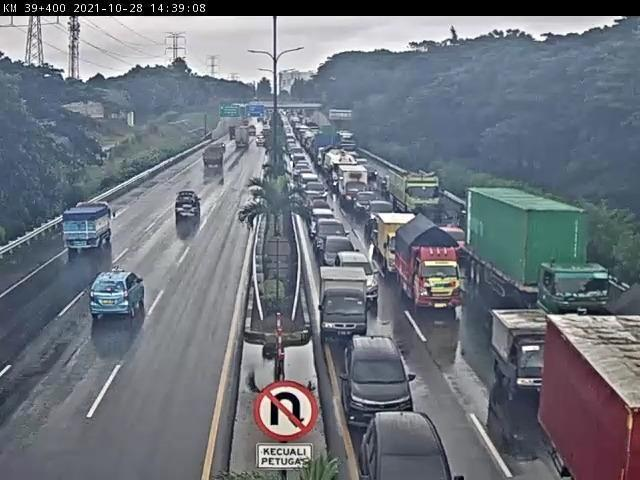car: (323, 323, 429, 427), (347, 391, 463, 479), (75, 248, 164, 343), (489, 292, 559, 399), (327, 286, 375, 341), (168, 180, 203, 232), (324, 234, 359, 270), (318, 218, 349, 253), (366, 198, 394, 232), (353, 188, 378, 211)
truck: (484, 202, 627, 322), (393, 222, 482, 325), (314, 263, 381, 348), (54, 197, 120, 262)
